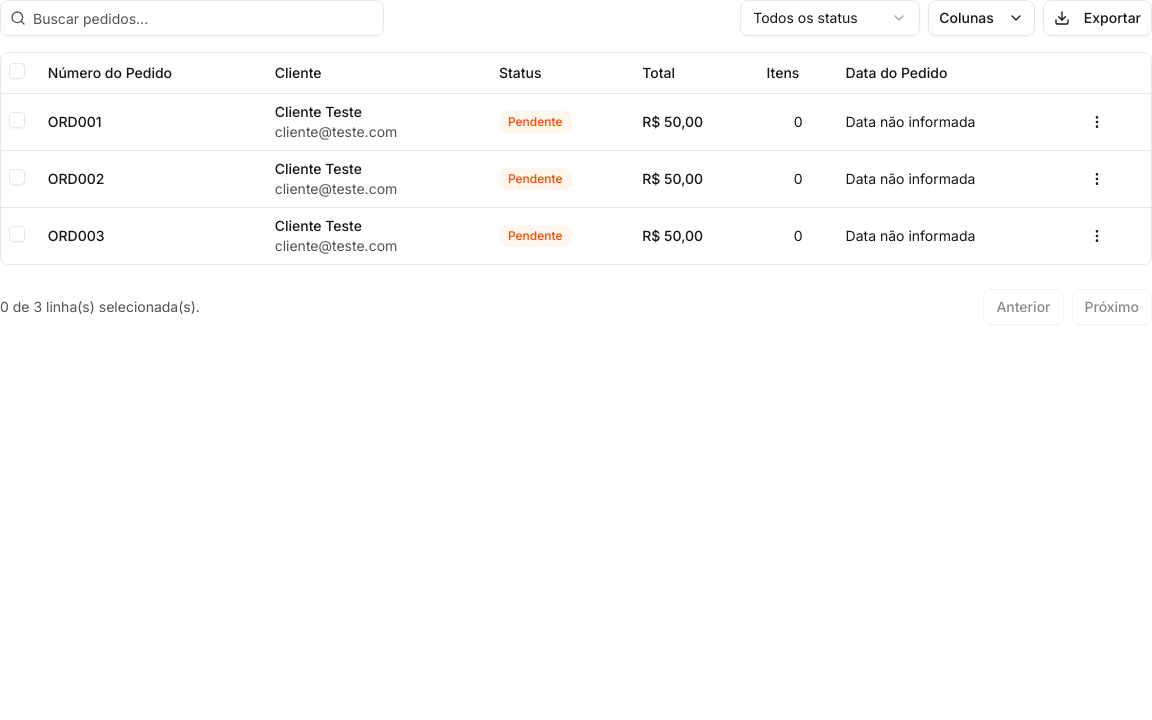
Test: Ações em Massa - DataTable › Atualização de Status em Massa › deve abrir modal de confirmação ao clicar em "Mover para Aceito"
The width and height of the screenshot is (1152, 720).
// Selecionar pedidos
What coordinates should you click on to do the following:
click the checkbox named "Select row" next to "ORD001"
I would click on:
 (17, 120)
Its box is [9, 112, 25, 128].
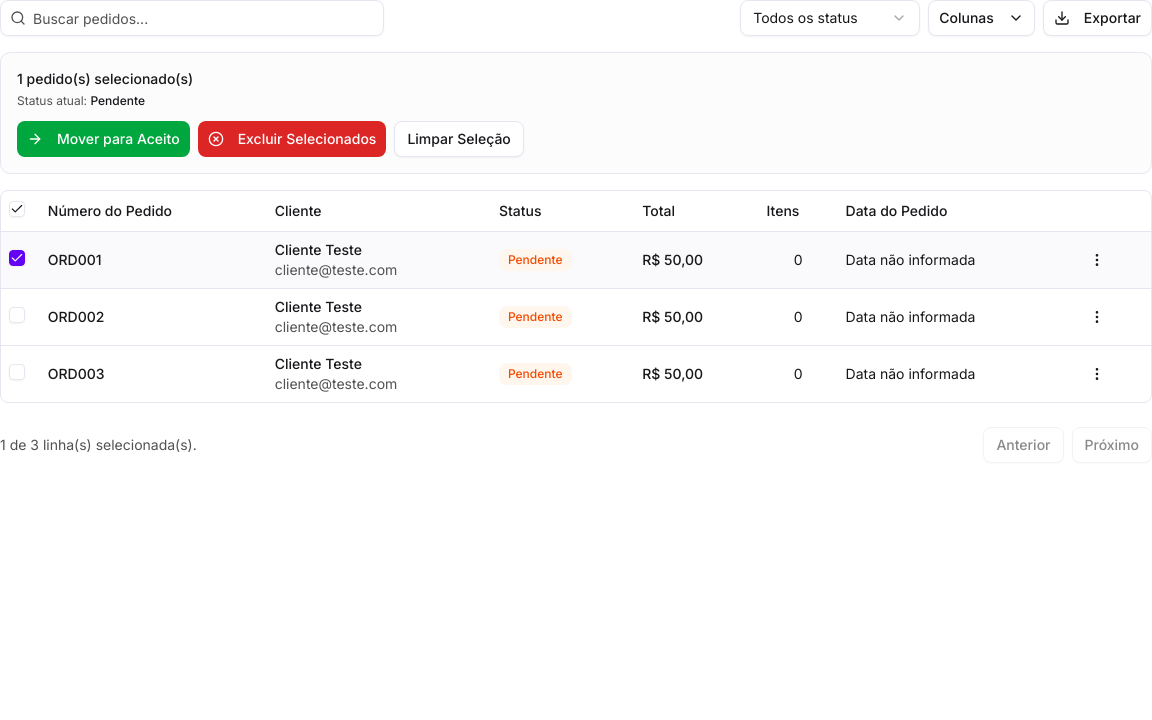
Expected: the button "Mover para Aceito" is shown
What coordinates should you click on to do the following:
click the button "Mover para Aceito"
I would click on:
 (103, 139)
Its box is [17, 121, 190, 157].
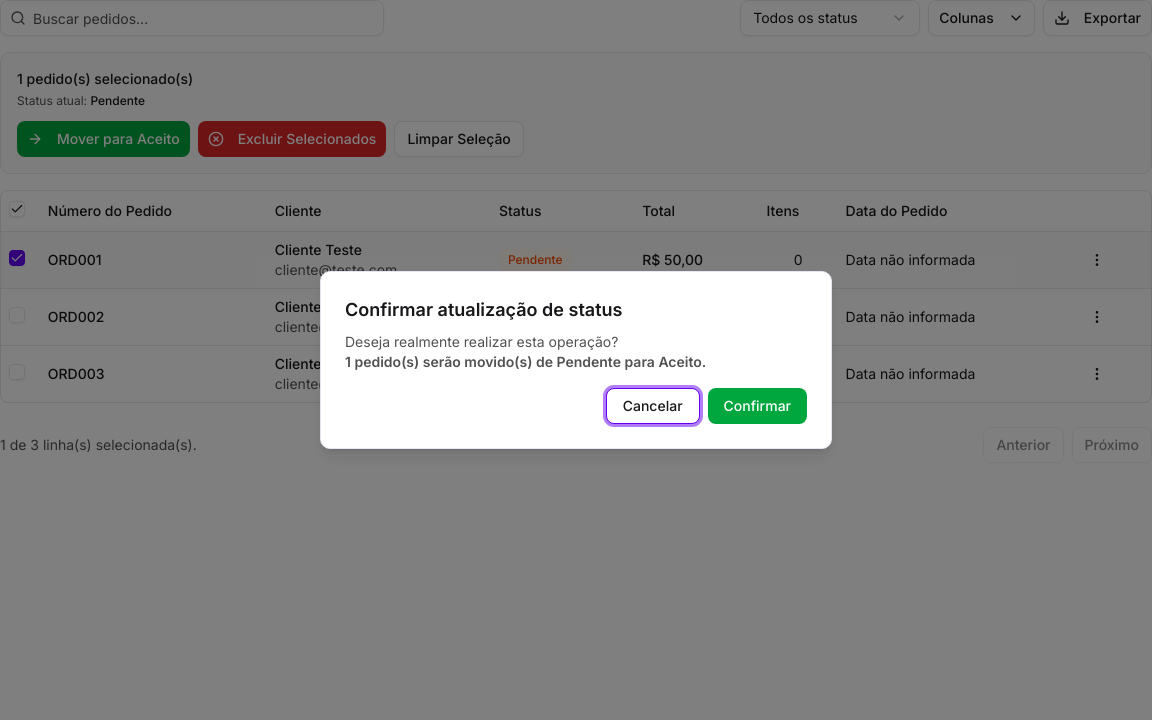
Expected: the heading "Confirmar atualização de status" is shown, [345, 299, 622, 320]
Expected: the text "Deseja realmente realizar esta operação?" is shown, [345, 333, 618, 350]
